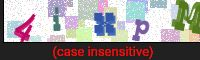3: (8, 9, 39, 42)
M: (166, 1, 199, 40)
X: (85, 9, 121, 39)
i: (45, 2, 69, 34)
p: (130, 17, 153, 43)
